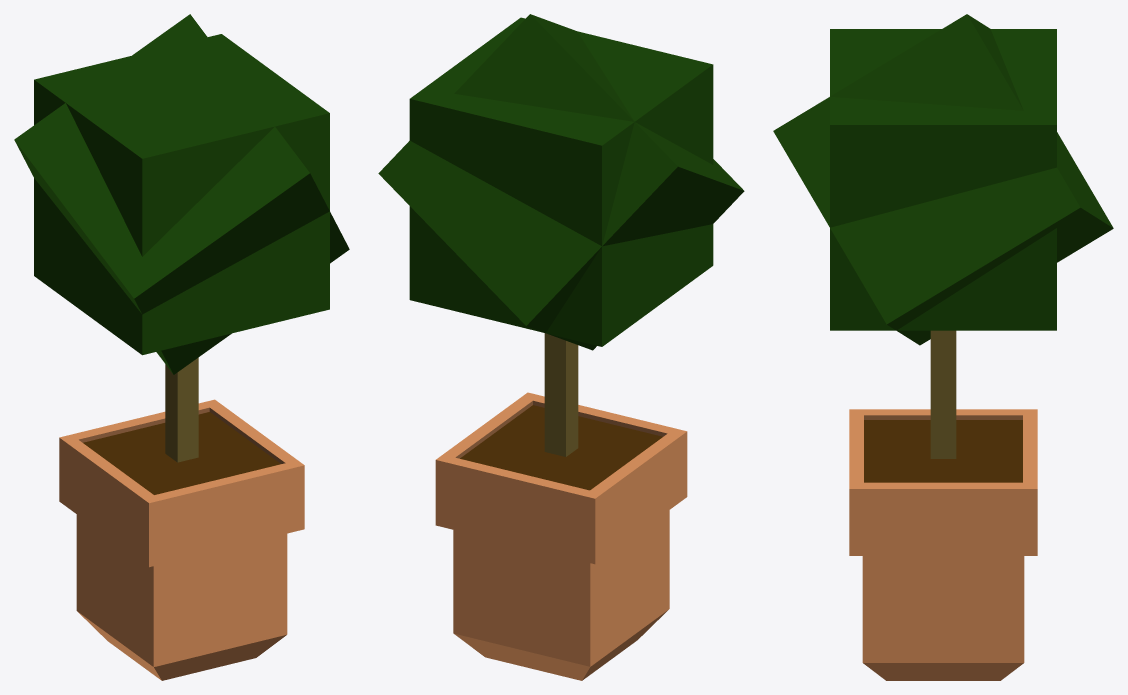
The model's file is plantpot and plant.fbx.
The picture shows the model from 3 angles, left to right: view 1: azimuth 30°, elevation 25°; view 2: azimuth 150°, elevation 25°; view 3: azimuth 270°, elevation 25°; orthographic projection. The views are drawn at different scales.
Visible parts, largest first — view 1: Plane; view 2: Plane; view 3: Plane.
Part boxes in pixels (x1,y1,x2,y2): Plane: (14,14,349,680); Plane: (378,14,744,680); Plane: (773,14,1113,680).
Size of the model in its own units: 206 by 435 by 206.
